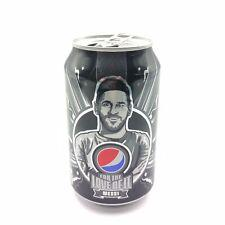metal: (65, 34, 161, 206)
